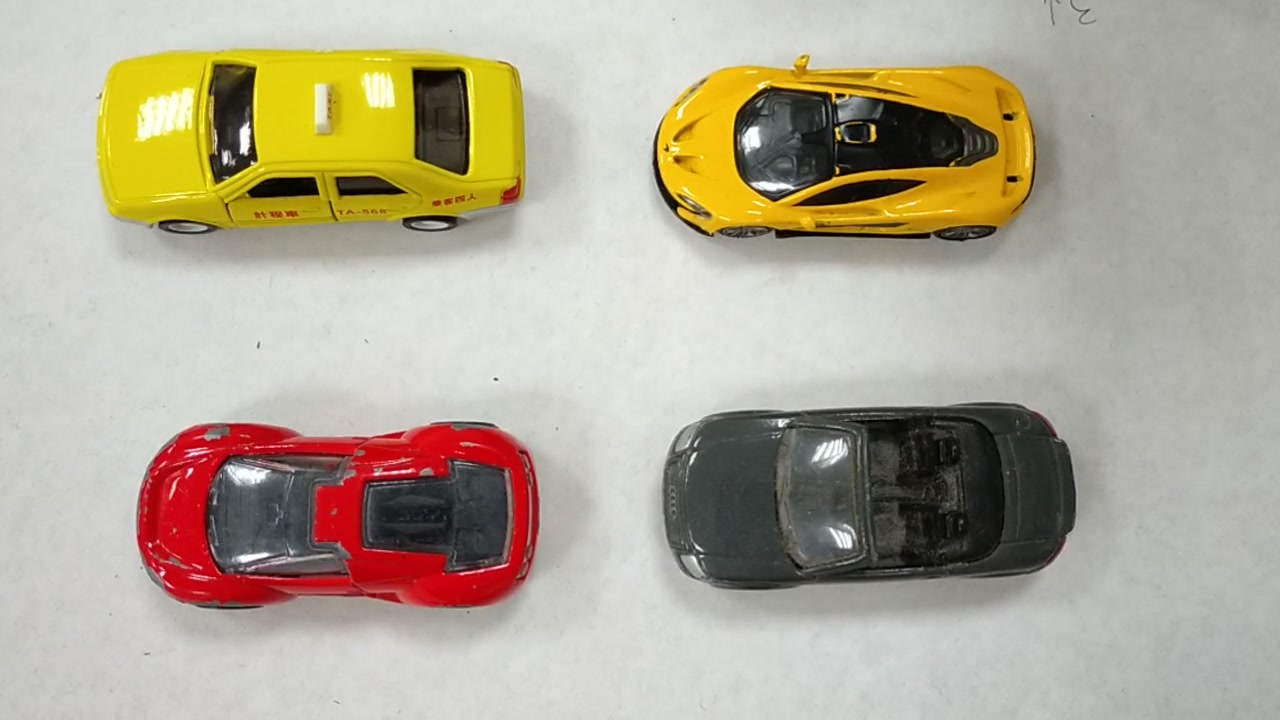car: (657, 408, 1075, 587), (91, 60, 528, 225), (137, 439, 542, 615), (653, 81, 1036, 232)
